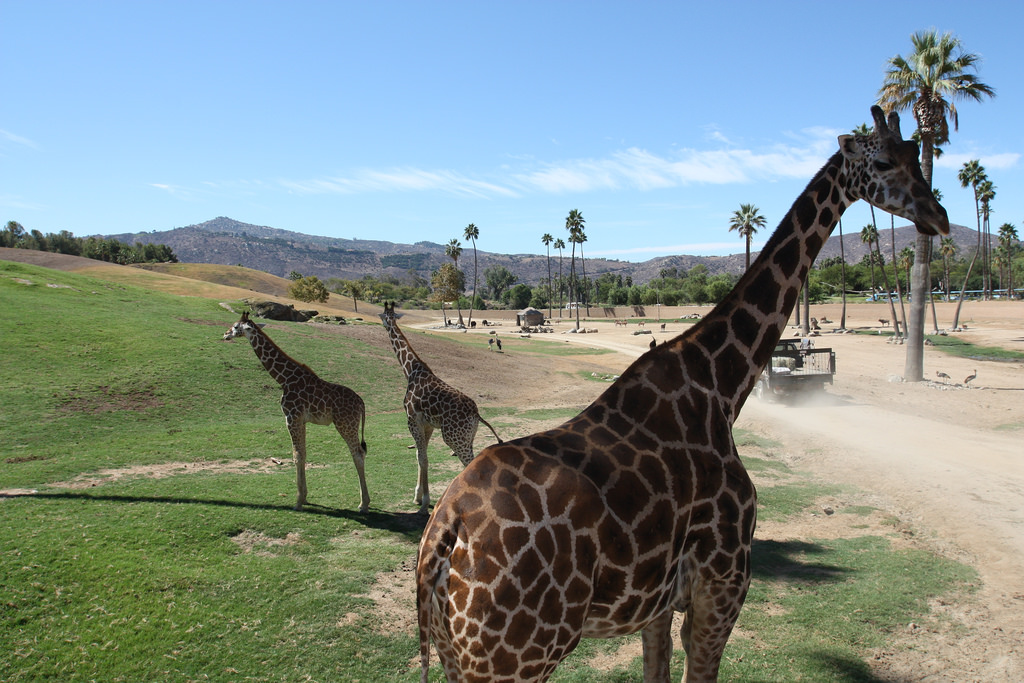giraffe: (428, 110, 942, 658), (201, 294, 375, 535), (370, 282, 496, 524)
